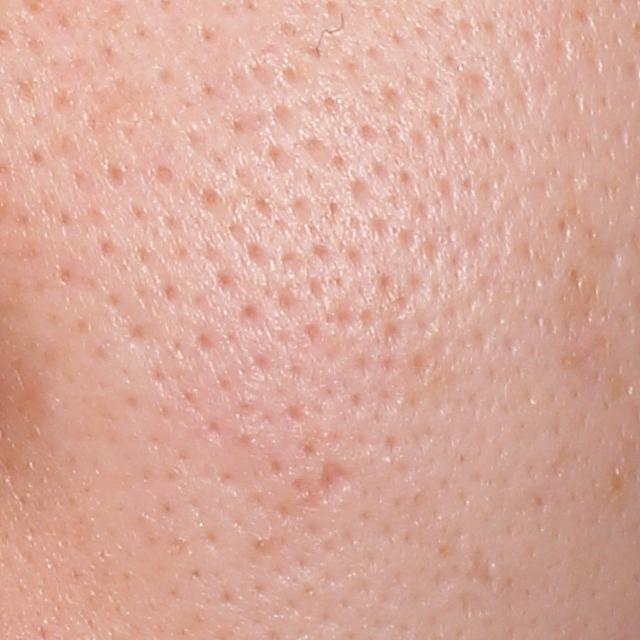atrophic_scar: (288, 460, 355, 514), (453, 65, 498, 107), (465, 544, 499, 596)
